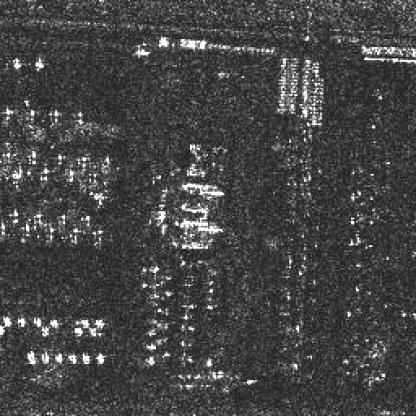airplane: (89, 229, 104, 245), (8, 166, 24, 180), (18, 223, 32, 239), (74, 154, 88, 169), (44, 223, 58, 237), (67, 228, 81, 242), (55, 151, 70, 164), (57, 211, 70, 226), (6, 208, 20, 221), (31, 212, 45, 224), (81, 214, 93, 228), (34, 57, 46, 70), (3, 108, 15, 121), (10, 56, 22, 68), (73, 110, 85, 122), (49, 108, 60, 121), (28, 150, 38, 164), (40, 166, 50, 180), (94, 353, 106, 364), (65, 169, 75, 182), (0, 223, 10, 236), (26, 351, 37, 362), (26, 109, 36, 120), (39, 351, 49, 362), (66, 354, 76, 364), (81, 354, 91, 364), (71, 326, 83, 334), (1, 314, 10, 324), (87, 328, 98, 336), (32, 315, 40, 325), (49, 317, 57, 327), (80, 318, 90, 326), (92, 318, 102, 326), (54, 352, 62, 362), (16, 317, 24, 325), (41, 325, 47, 335)
